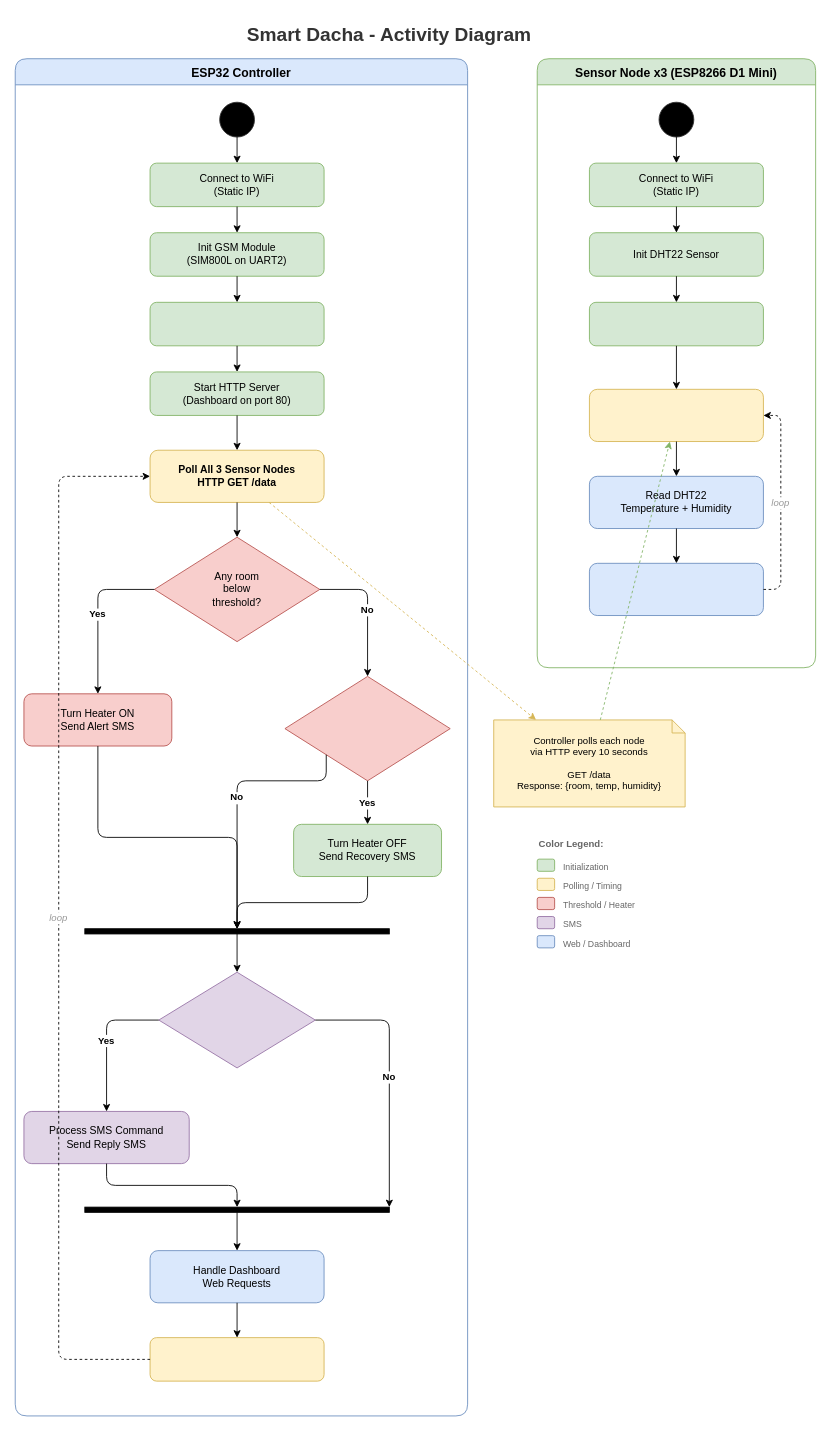
This 831x1431 diagram has some shape labels left out. Each missing label, with the centre of its shape:
All rooms above threshold + hysteresis?: the point at 367,728
Init Relay (Heater OFF, GPIO 26): the point at 236,323
Return JSON Response {room, temp, humidity}: the point at 676,589
SMS received?: the point at 236,1019
Start HTTP Server (port 80): the point at 676,323
Wait 10 seconds: the point at 236,1359
Wait for HTTP Request: the point at 676,415
